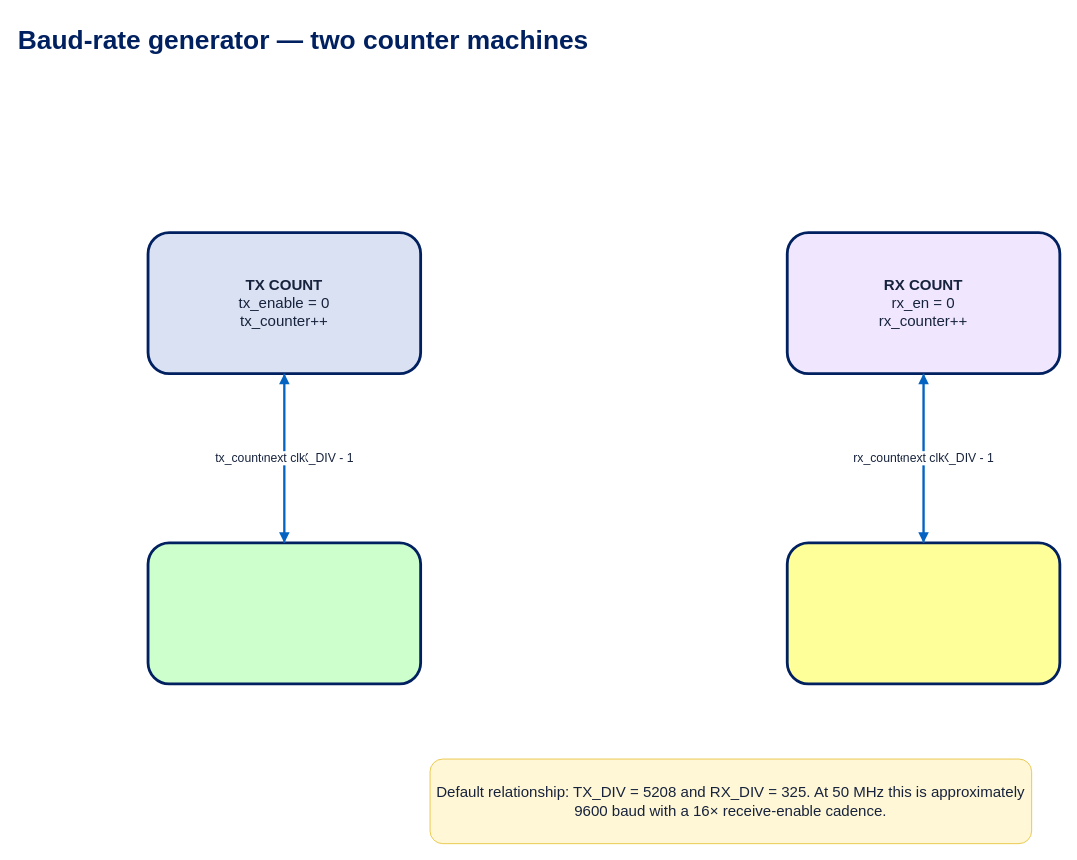
Some shapes in this 1077 by 860 pixel diagram are drawn without their labels. The shapes that lost their labels are listed below. From the top down, each one's centre as x and y in pixels, then its label:
At point 284,613: "TX PULSE tx_counter = 0 tx_enable = 1 for one clk".
At point 923,613: "RX PULSE rx_counter = 0 rx_en = 1 for one clk".
